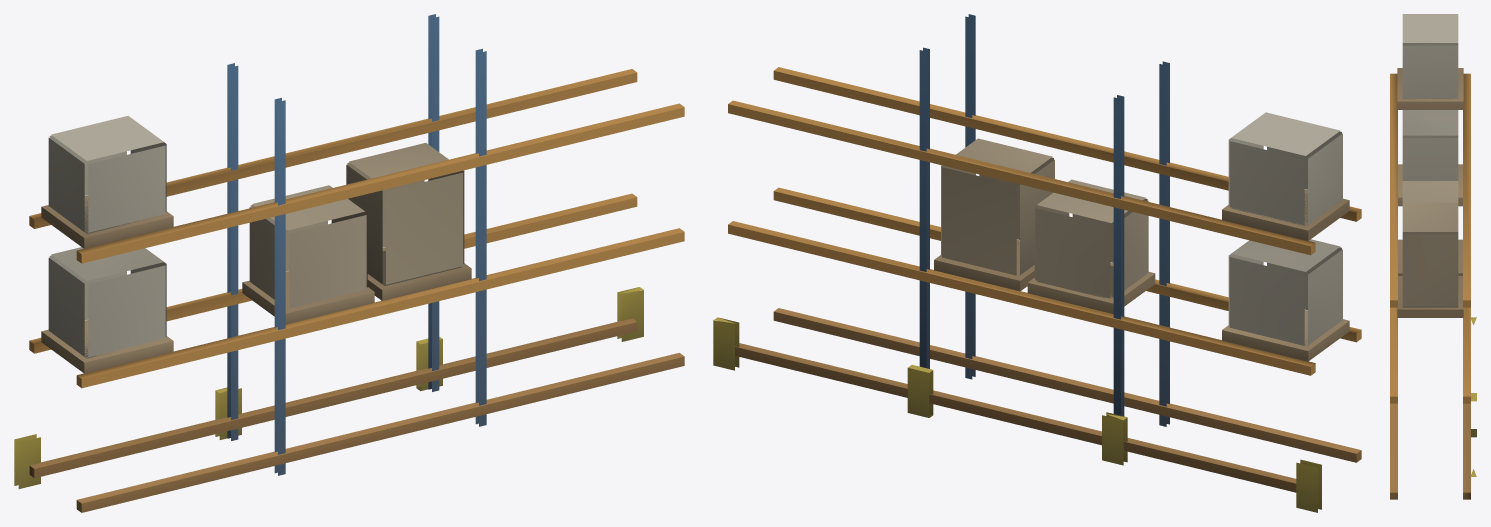
File: rack_half.lod.glb
3 views of the same model, side by side, from view 1: azimuth 30°, elevation 25°; view 2: azimuth 150°, elevation 25°; view 3: azimuth 270°, elevation 25° (orthographic). The views are drawn at different scales.
Visible parts, largest first — view 1: rack_half; view 2: rack_half; view 3: rack_half.
Boxes of the visible parts, <box> form: rack_half: <box>14,14,684,512</box>; rack_half: <box>713,14,1361,512</box>; rack_half: <box>1390,14,1476,499</box>.
Size of the model in its own units: 8.4 by 4.8 by 1.31.
